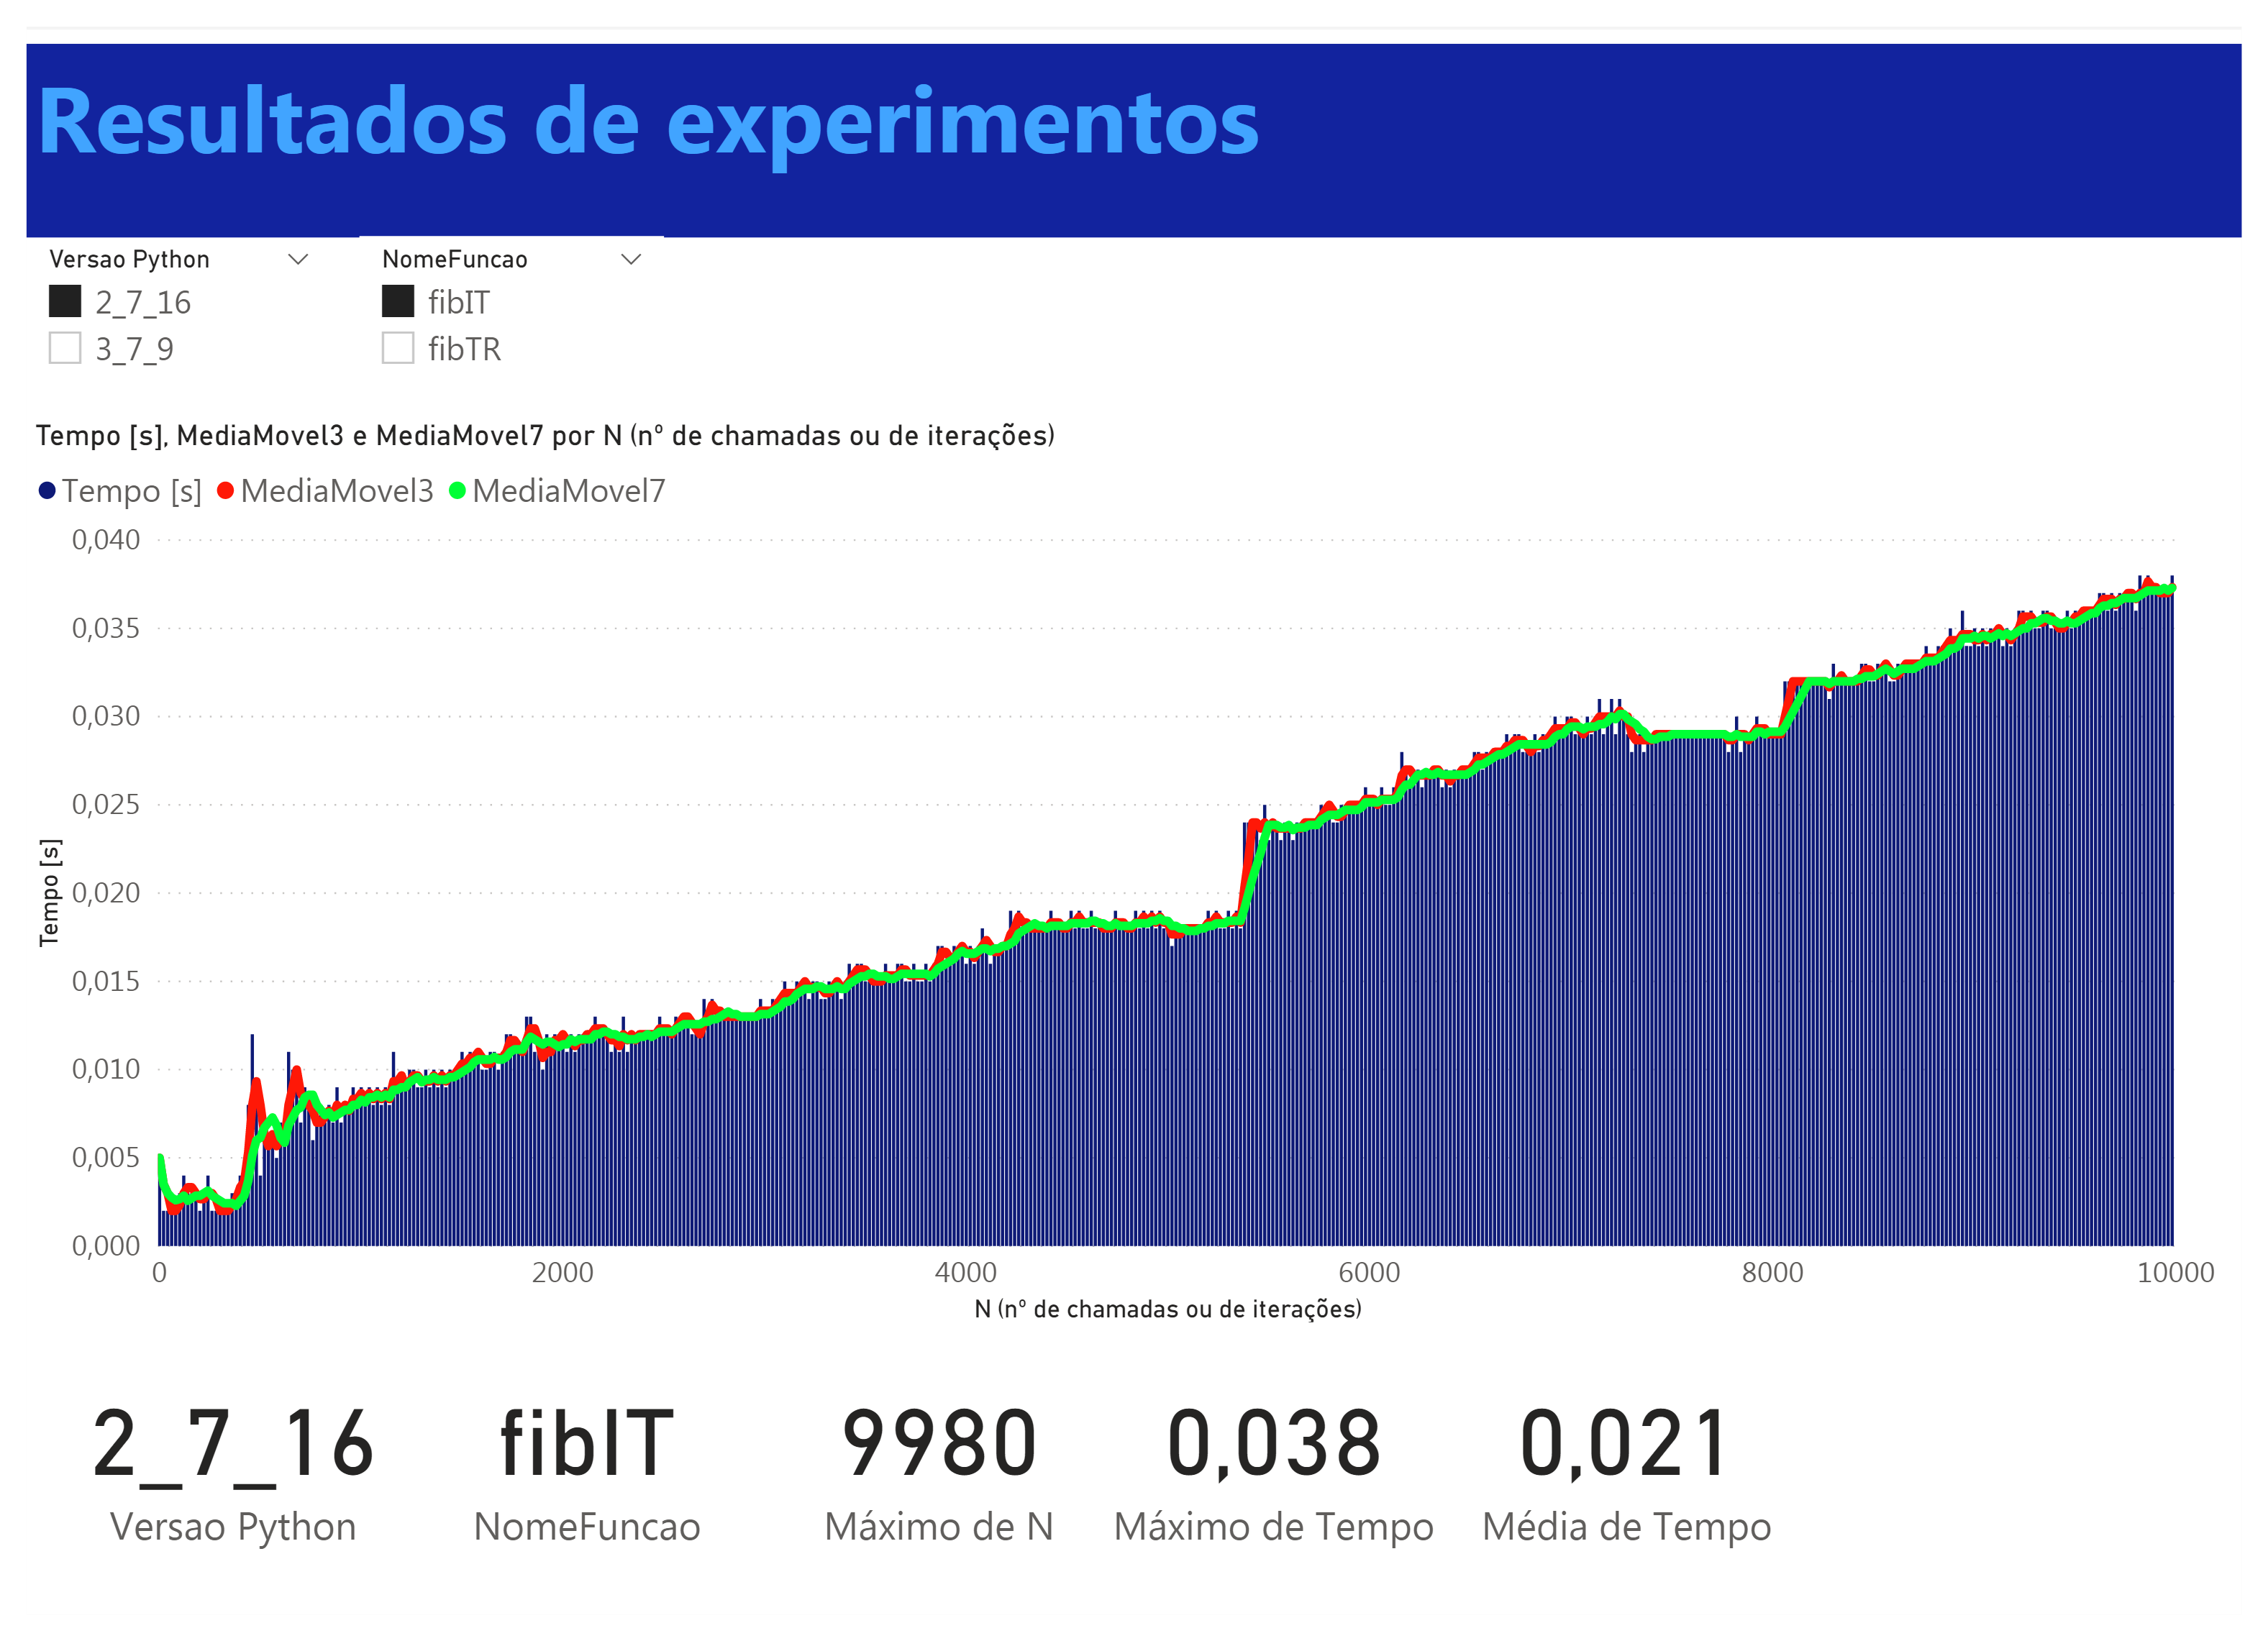

This screenshot's page, from the dashboard's own definition file:
{"tool":"powerbi","page":{"name":"Fibonacci","canvas":[1280,900],"ordinal":7},"visuals":[{"type":"card","fields":{"Values":["Max(Tabela1.Tempo)"]},"box":[600,744,240,144],"z":0},{"type":"card","fields":{"Values":["Min(Tabela1.NomeFuncao)"]},"box":[216,744,216,144],"z":1000},{"type":"card","fields":{"Values":["Max(Tabela1.N)"]},"box":[456,744,144,144],"z":2000},{"type":"card","fields":{"Values":["Avg(Tabela1.Tempo)"]},"box":[816,744,216,144],"z":3000},{"type":"slicer","fields":{"Values":["Tabela1.Versao Python"]},"box":[0,112,176,112],"z":4000},{"type":"card","fields":{"Values":["Min(Tabela1.Versao Python)"]},"box":[24,744,192,144],"z":5000},{"type":"textbox","box":[0,0,1280,112],"z":6000},{"type":"slicer","fields":{"Values":["Tabela1.NomeFuncao"]},"box":[192,112,176,112],"z":7000},{"type":"lineClusteredColumnComboChart","fields":{"Y":["Sum(Tabela1.Tempo)"],"Category":["Tabela1.N"],"Y2":["Tabela1.MediaMovel3","Tabela1.MediaMovel7"]},"box":[0,216,1272,528],"z":8000}]}

Visuals, with their boxes in screenshot pixels (x1, y1, x2, y2), scaled from the page's 1280x900 canvas onto the 2268x1641 screenshot:
card - Max(Tabela1.Tempo): {"x1": 1063, "y1": 1356, "x2": 1488, "y2": 1619}
card - Min(Tabela1.NomeFuncao): {"x1": 383, "y1": 1356, "x2": 765, "y2": 1619}
card - Max(Tabela1.N): {"x1": 808, "y1": 1356, "x2": 1063, "y2": 1619}
card - Avg(Tabela1.Tempo): {"x1": 1446, "y1": 1356, "x2": 1828, "y2": 1619}
slicer - Tabela1.Versao Python: {"x1": 0, "y1": 204, "x2": 312, "y2": 408}
card - Min(Tabela1.Versao Python): {"x1": 42, "y1": 1356, "x2": 383, "y2": 1619}
textbox: {"x1": 0, "y1": 0, "x2": 2267, "y2": 204}
slicer - Tabela1.NomeFuncao: {"x1": 340, "y1": 204, "x2": 652, "y2": 408}
lineClusteredColumnComboChart - Sum(Tabela1.Tempo) x Tabela1.N: {"x1": 0, "y1": 394, "x2": 2254, "y2": 1356}
